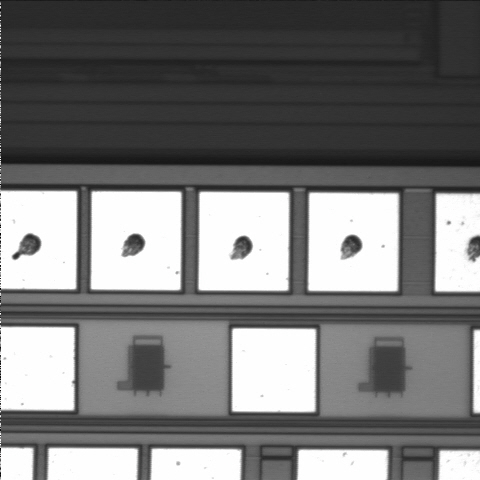pad: (91, 191, 181, 290), (199, 192, 289, 291), (308, 193, 398, 291), (232, 329, 316, 412)
